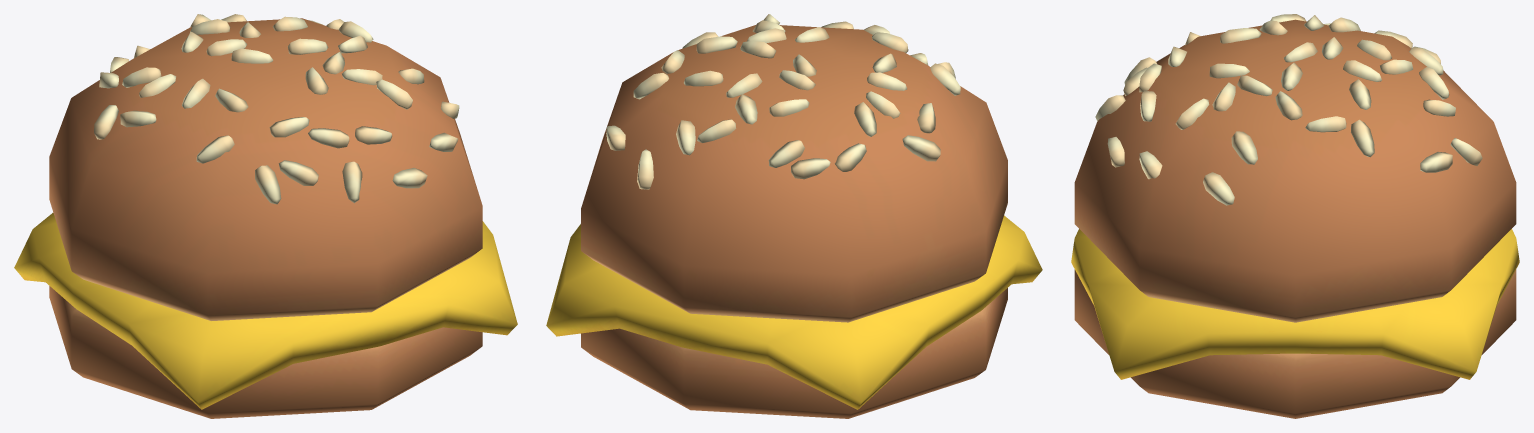
The model's file is bun_cheese.obj.
The picture shows the model from 3 angles, left to right: view 1: azimuth 30°, elevation 25°; view 2: azimuth 150°, elevation 25°; view 3: azimuth 270°, elevation 25°; orthographic projection.
Parts seen in each view (by area): view 1: BunsCheese1; view 2: BunsCheese1; view 3: BunsCheese1.
Boxes of the visible parts, x1,y1,x2,y2 form: BunsCheese1: (14,14,517,418); BunsCheese1: (546,14,1042,418); BunsCheese1: (1071,14,1519,418).
Size of the model in its own units: 2 by 1.41 by 2.03.
1 material, 1 textured.
